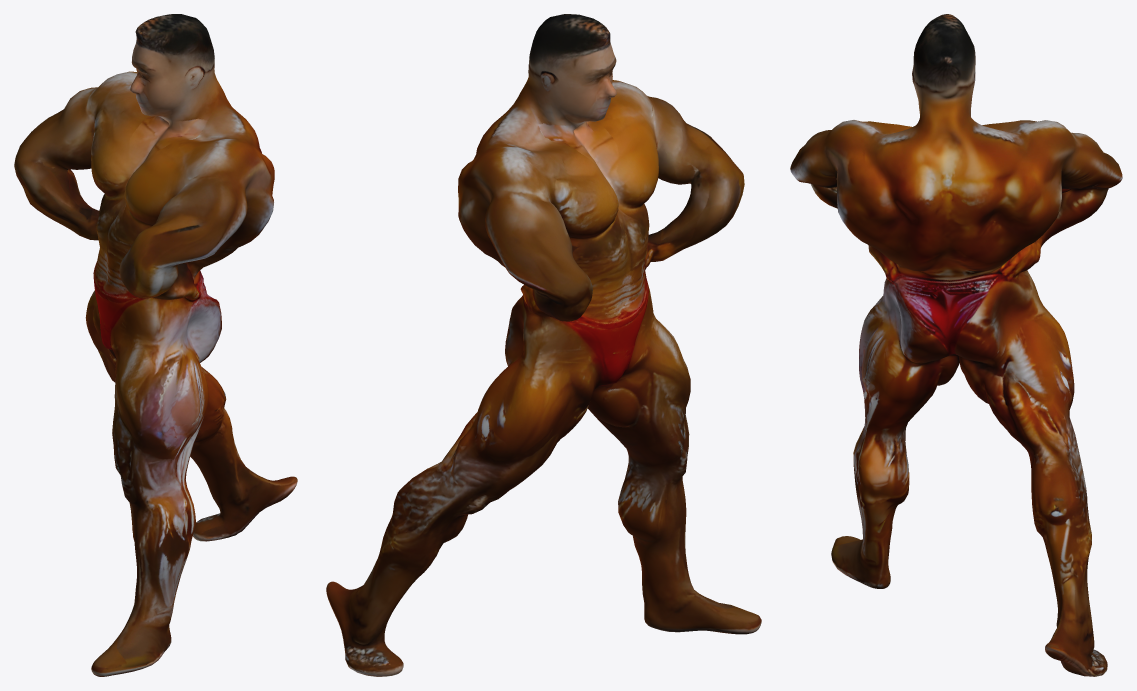
Rendered from lowpoly-rear-lat-spread.glb.
3 views of the same model, side by side, from view 1: azimuth 30°, elevation 25°; view 2: azimuth 150°, elevation 25°; view 3: azimuth 270°, elevation 25° (orthographic). The views are drawn at different scales.
Parts seen in each view (by area): view 1: tripo_node_70fdf808; view 2: tripo_node_70fdf808; view 3: tripo_node_70fdf808.
Boxes of the visible parts, x1,y1,x2,y2 form: tripo_node_70fdf808: (14,14,297,676); tripo_node_70fdf808: (326,14,761,676); tripo_node_70fdf808: (790,14,1122,676).
Bounding box in the file's own units: 53.73 × 99.98 × 51.12.
1 material, 1 textured.
